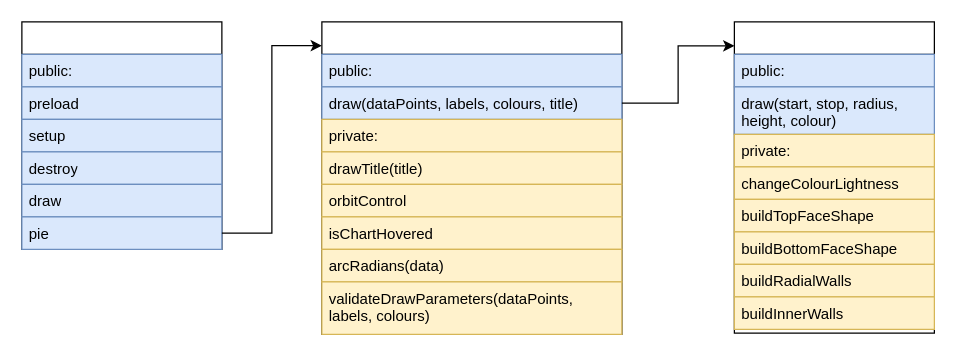
Some shapes in this 956 by 360 pixel diagram are drawn without their labels. The box of each missing label's shape, as (x1, y1, x2, y2) in pixels:
PieChart3D: (321, 21, 622, 334)
PieSlice3D: (733, 21, 934, 333)
TechDiversityRace: (21, 21, 222, 249)
